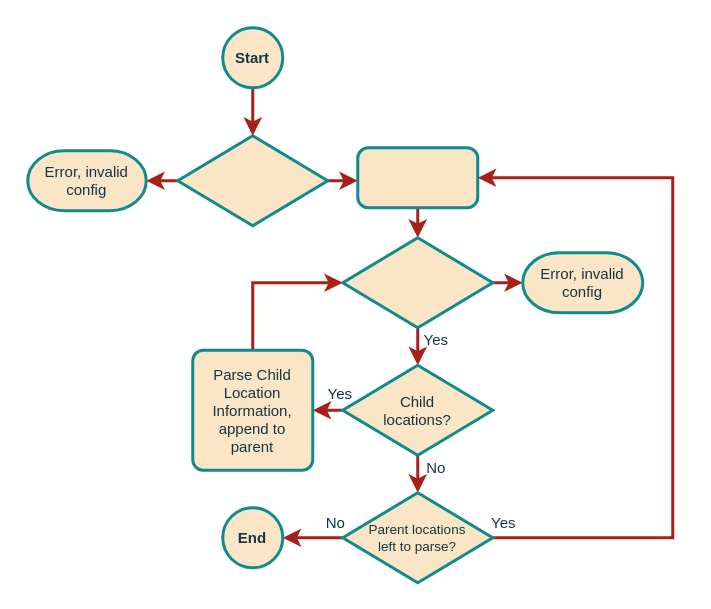
The diagram is 711 pixels wide and 609 high, and some of its shapes have lost their labels. Here are the shapes that lost their labels. From the top down, the centre of each, then its label:
At [252,180]: "Locations Exists?".
At [417,177]: "Parse Location Information".
At [417,282]: "Has IP or child locations?".
